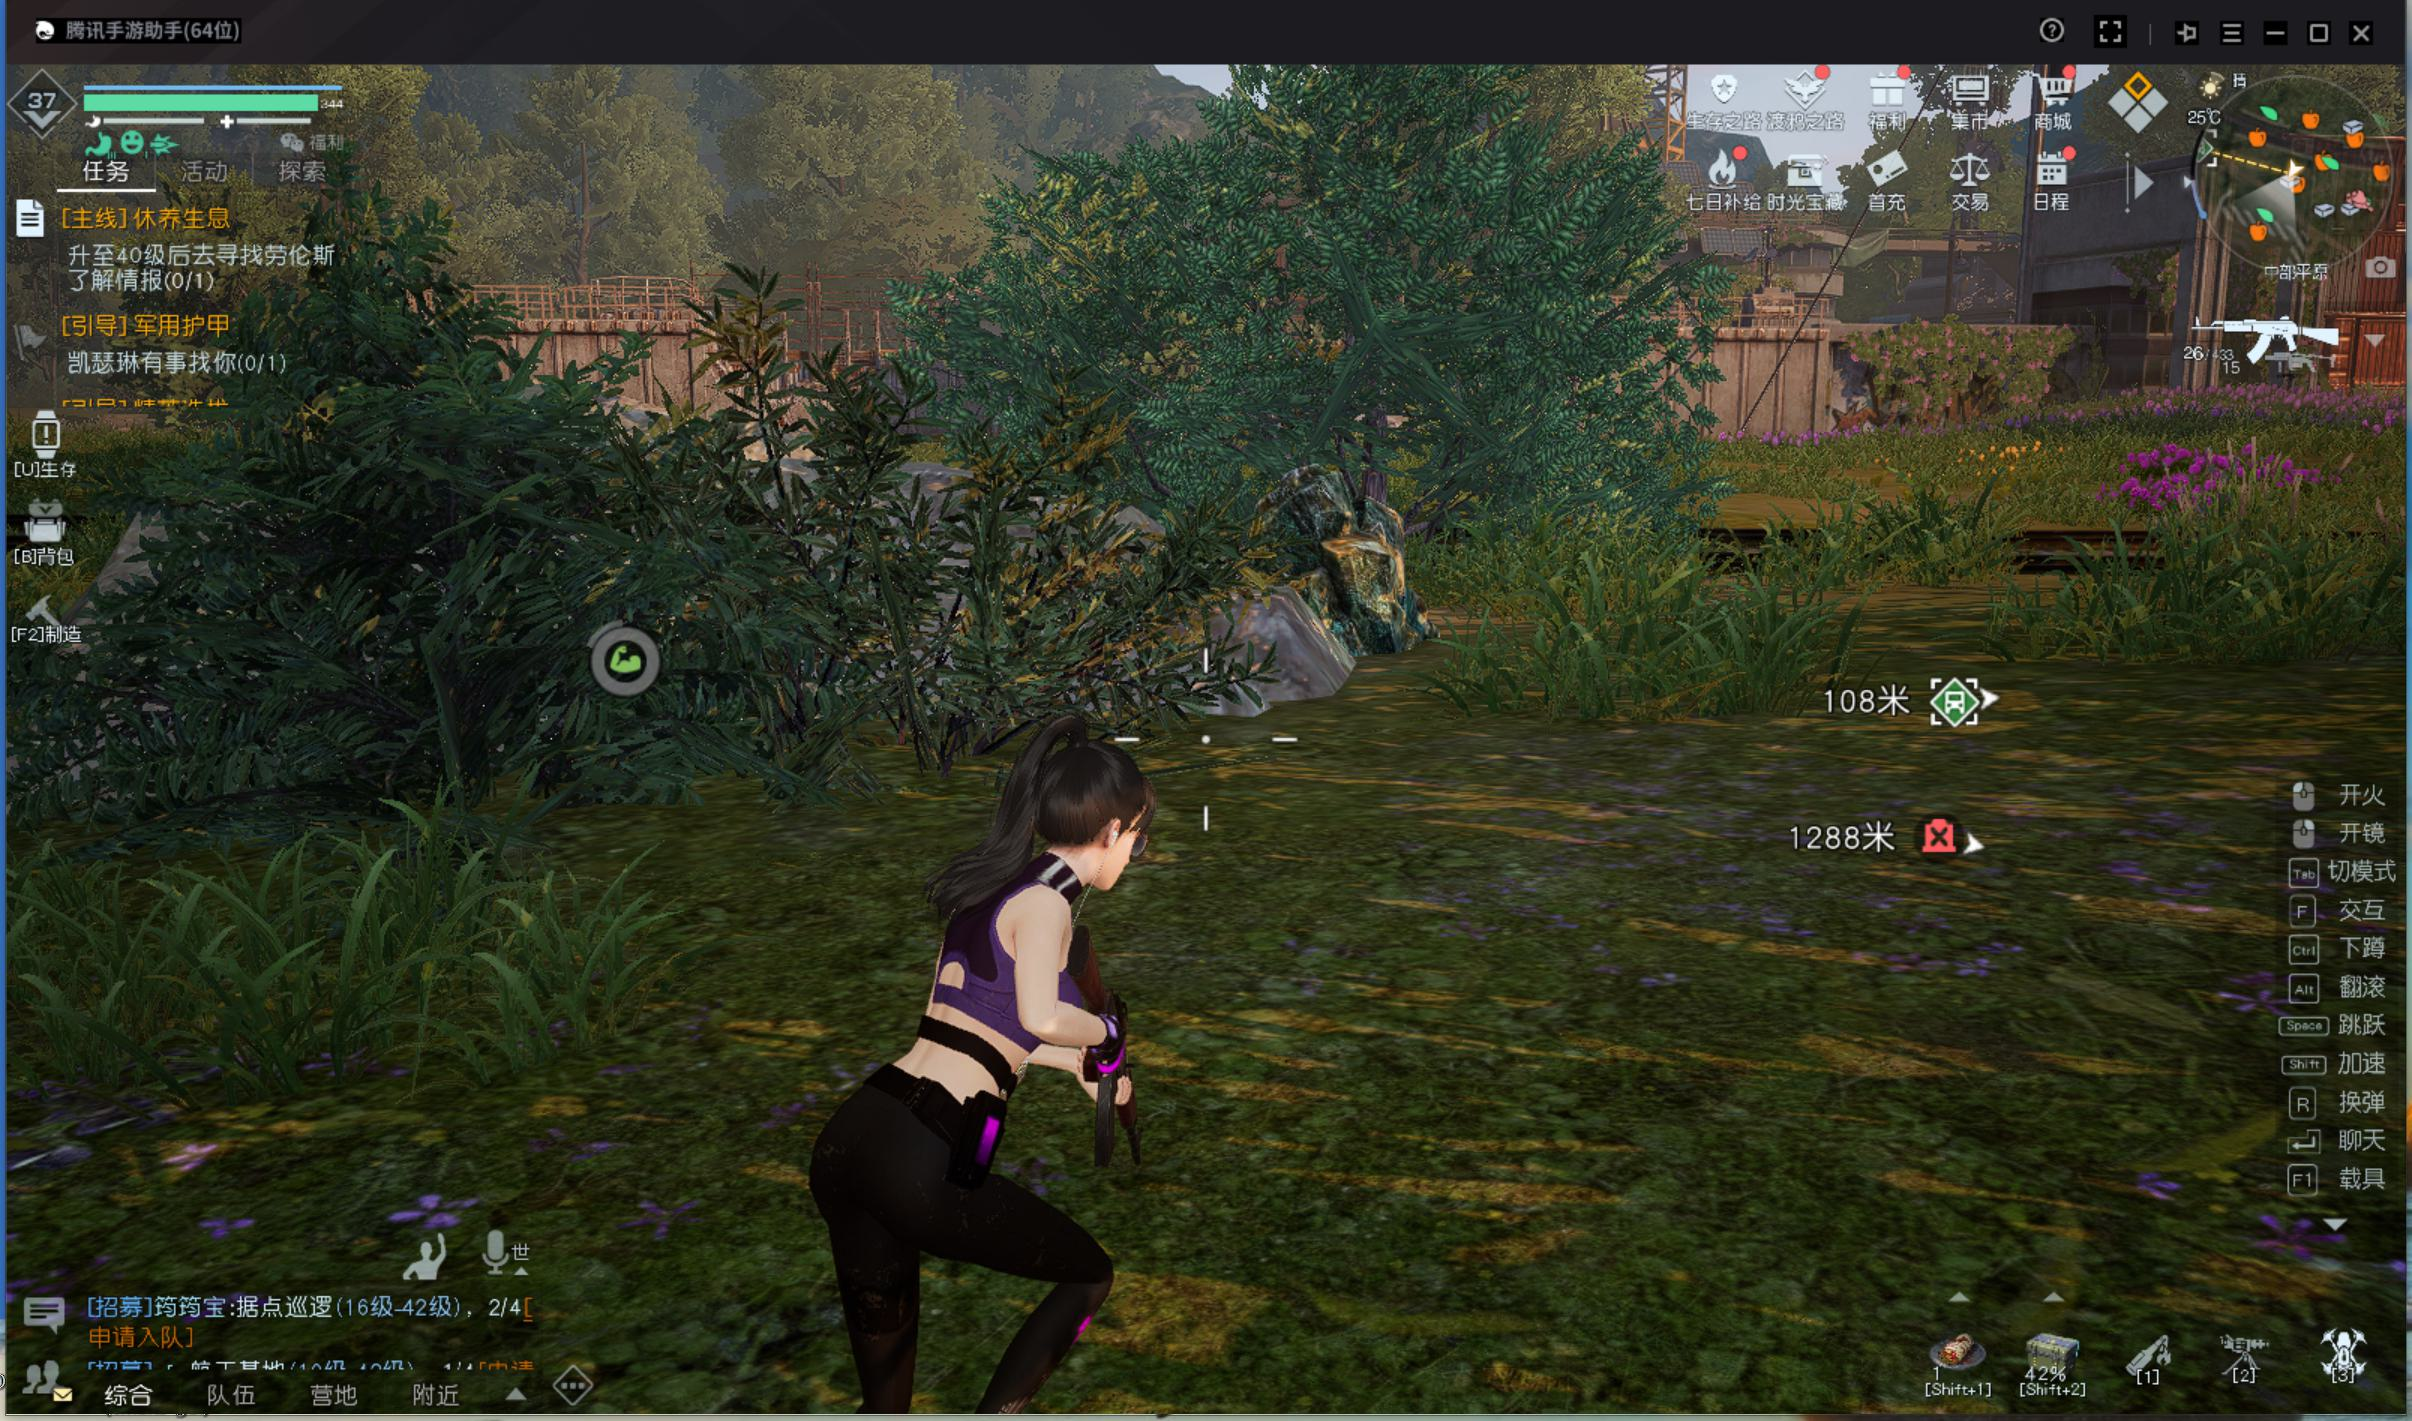stone: (1191, 442, 1446, 678)
